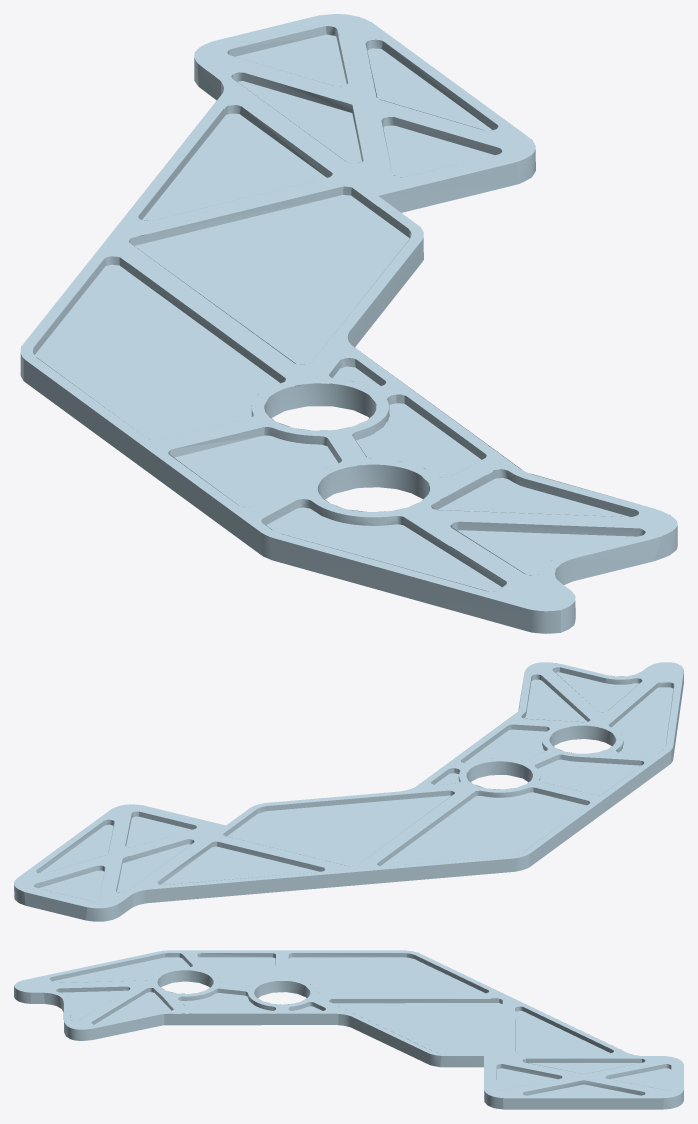
File: ArmMount.fbx
3 renders of one model, top to bottom at view 1: azimuth 30°, elevation 25°; view 2: azimuth 150°, elevation 25°; view 3: azimuth 270°, elevation 25°, orthographic. The views are drawn at different scales.
Visible parts, largest first — view 1: Part 1; view 2: Part 1; view 3: Part 1.
Boxes of the visible parts, <box> form: Part 1: <box>20,14,677,633</box>; Part 1: <box>14,662,683,921</box>; Part 1: <box>14,950,683,1109</box>.
Size of the model in its own units: 17.78 by 0.635 by 34.06.
